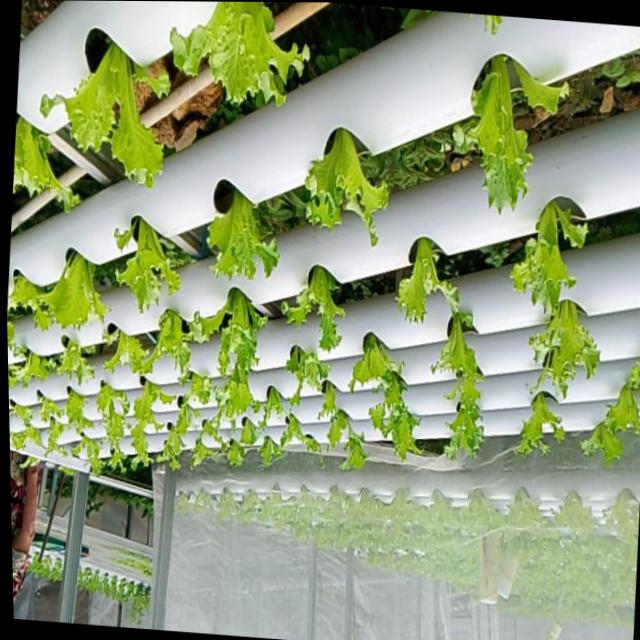Baby: (37, 46, 165, 189), (166, 2, 304, 106), (447, 55, 524, 212), (300, 127, 383, 244), (502, 198, 578, 311), (426, 301, 477, 454), (201, 179, 274, 277), (522, 296, 591, 394), (111, 215, 175, 310), (36, 250, 105, 331), (277, 263, 339, 348), (391, 235, 452, 320), (127, 307, 196, 377), (364, 369, 416, 456), (268, 342, 325, 402), (594, 362, 639, 434), (343, 329, 397, 387), (508, 387, 556, 451), (91, 380, 126, 465), (209, 361, 255, 423), (66, 435, 97, 473), (59, 389, 86, 432), (183, 371, 207, 403), (194, 414, 217, 445), (40, 416, 59, 453)
